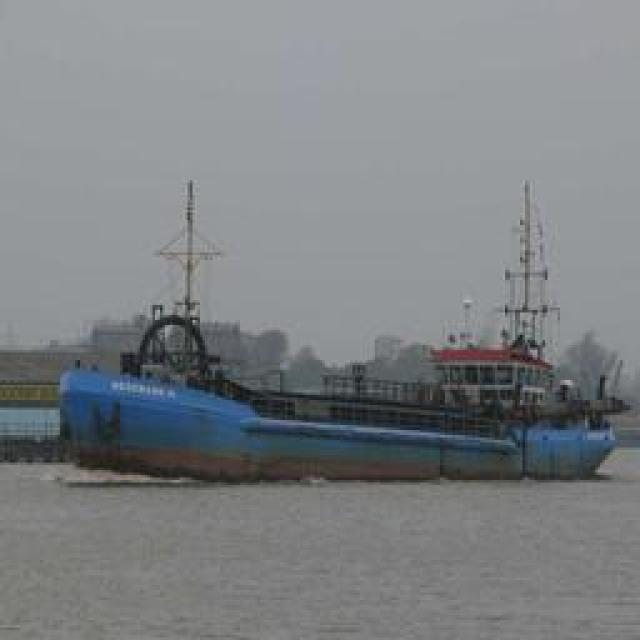CIV_Ship: (56, 350, 614, 470)
